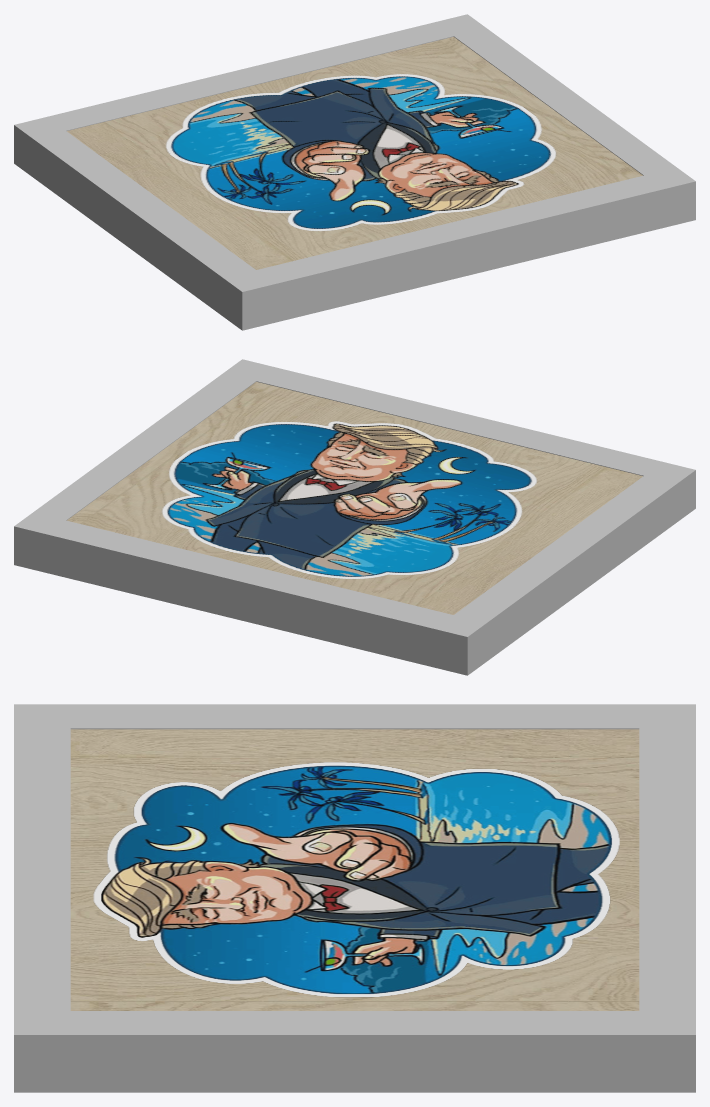
The model's file is Puzzle_17.FBX.
The picture shows the model from 3 angles, top to bottom: view 1: azimuth 30°, elevation 25°; view 2: azimuth 150°, elevation 25°; view 3: azimuth 270°, elevation 25°; orthographic projection. The views are drawn at different scales.
Parts seen in each view (by area): view 1: Box001, 035, 032, 033, 034, 030, 029, 031, 028; view 2: Box001, 035, 032, 033, 034, 030, 029, 031, 028; view 3: Box001, 035, 032, 033, 034, 030, 029, 031, 028.
Boxes of the visible parts, x1,y1,x2,y2 form: Box001: (14, 14, 695, 330); 035: (186, 165, 448, 269); 032: (308, 37, 548, 141); 033: (331, 66, 572, 170); 034: (114, 136, 378, 223); 030: (67, 84, 283, 171); 029: (427, 124, 642, 222); 031: (210, 72, 355, 159); 028: (379, 147, 522, 205); Box001: (14, 359, 695, 675); 035: (379, 429, 642, 528); 032: (67, 451, 330, 555); 033: (138, 428, 378, 527); 034: (331, 481, 571, 580); 030: (261, 540, 500, 614); 029: (185, 382, 449, 446); 031: (212, 516, 427, 567); 028: (282, 423, 425, 481); Box001: (14, 704, 695, 1092); 035: (70, 729, 354, 870); 032: (355, 870, 639, 1010); 033: (213, 870, 568, 1010); 034: (213, 729, 496, 870); 030: (426, 729, 639, 870); 029: (70, 870, 283, 1010); 031: (426, 800, 639, 905); 028: (141, 870, 283, 940).
Bounding box in the file's own units: 4 × 0.3257 × 3.48.
